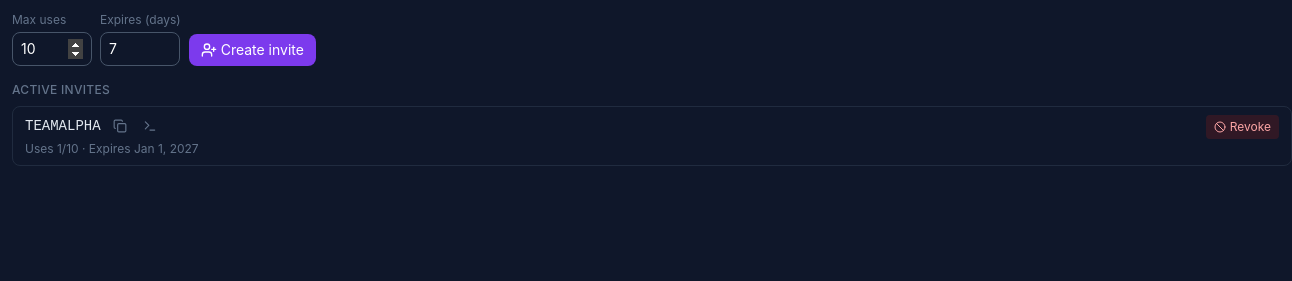
InvitePanel › creates invite
Expected: the text "TEAMALPHA" is shown, 25,116 -> 101,136
Click the button "Create invite" at [252, 50], box 189,34 -> 316,66
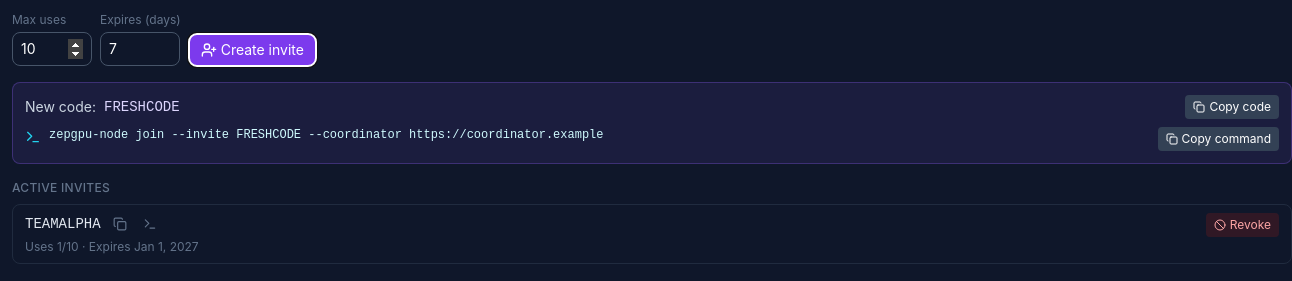
Expected: the text "FRESHCODE" is shown, 104,97 -> 180,117
Expected: the text with test id "invite-join-command" shows "zepgpu-node join", 49,128 -> 604,142
Expected: the text with test id "invite-join-command" shows "FRESHCODE", 49,128 -> 604,142
